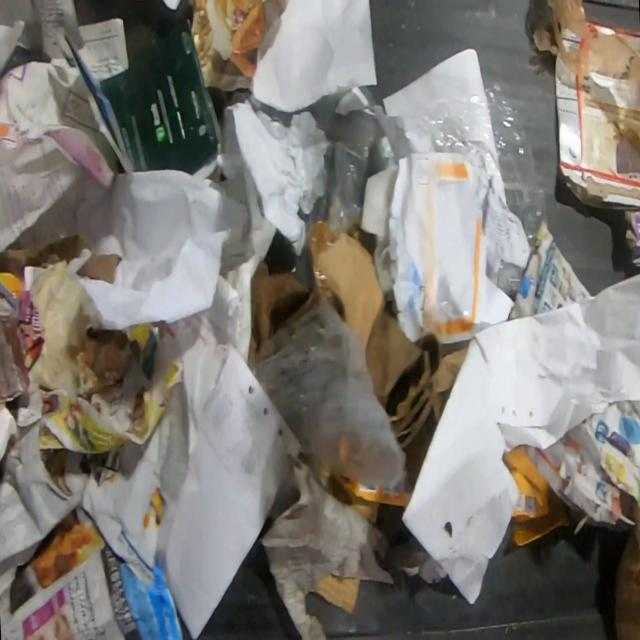cardboard: (250, 220, 468, 448), (402, 338, 520, 606), (99, 18, 224, 178), (554, 47, 640, 211), (613, 482, 640, 639), (0, 321, 48, 404), (592, 20, 640, 54), (624, 211, 640, 268)
soft_plastic: (250, 297, 410, 494), (414, 85, 548, 248), (308, 86, 397, 234), (545, 0, 640, 81), (489, 262, 523, 293)
